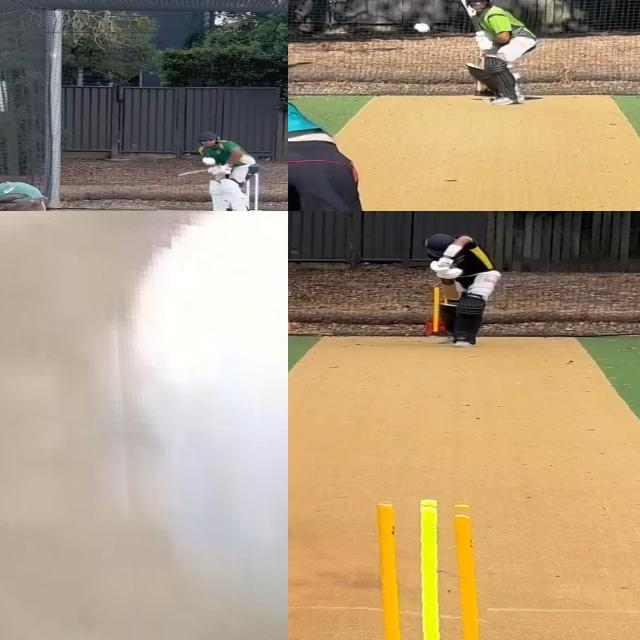Cricket ball: (103, 211, 288, 640), (412, 21, 433, 34), (200, 155, 219, 166)
Stumps: (355, 498, 486, 640)
